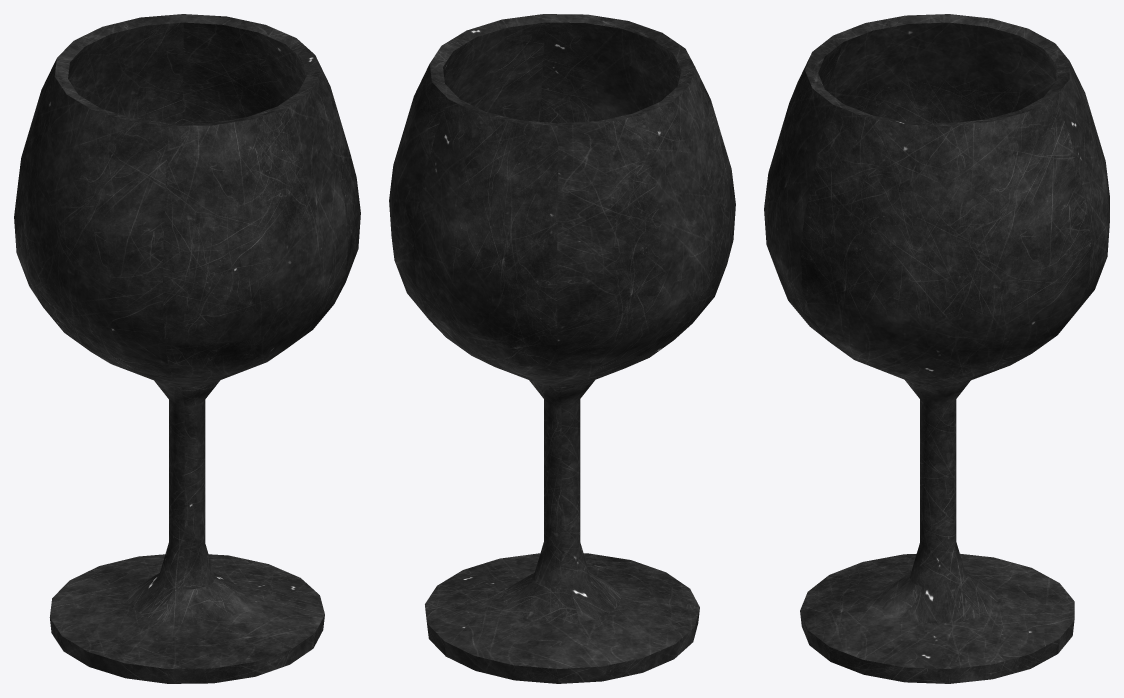
File: goblet.fbx
The picture shows the model from 3 angles, left to right: view 1: azimuth 30°, elevation 25°; view 2: azimuth 150°, elevation 25°; view 3: azimuth 270°, elevation 25°; orthographic projection.
Visible parts, largest first — view 1: nurbsToPoly1; view 2: nurbsToPoly1; view 3: nurbsToPoly1.
Boxes of the visible parts, <box> form: nurbsToPoly1: <box>14,14,360,683</box>; nurbsToPoly1: <box>389,14,735,683</box>; nurbsToPoly1: <box>764,14,1109,683</box>.
Size of the model in its own units: 4.65 by 8.32 by 4.63.
Materials: 1 (1 with a texture image).
